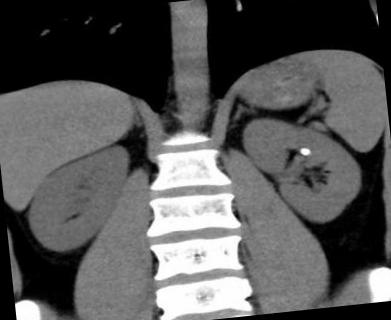Tas_Var: (298, 144, 310, 158)
